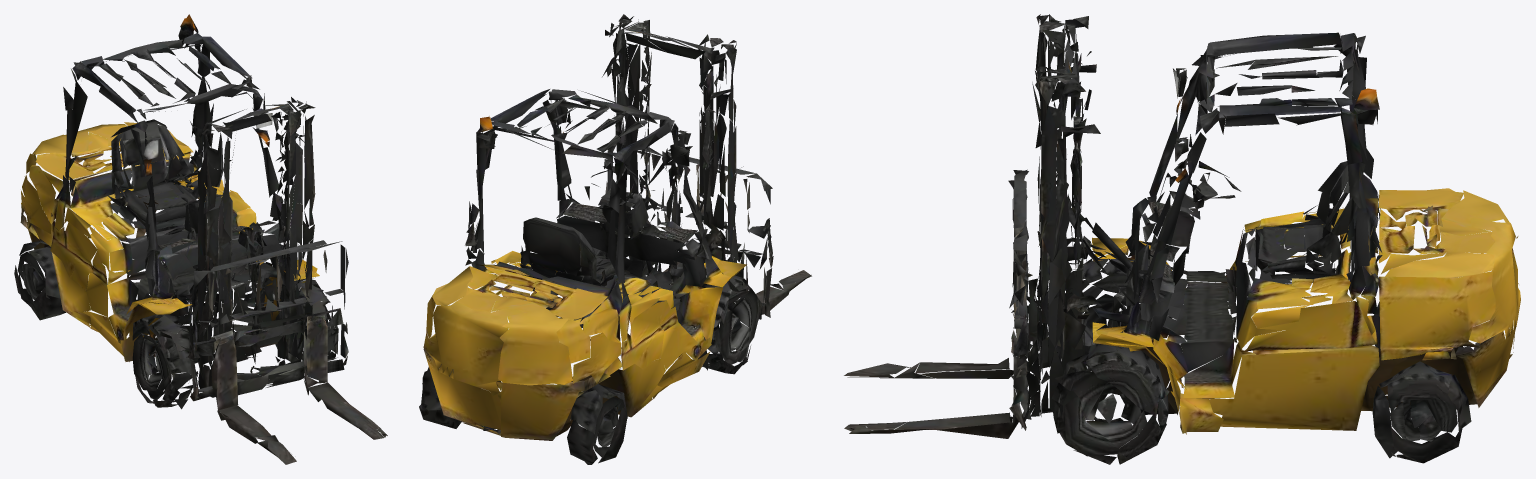
The model's file is forklift.glb.
3 renders of one model, left to right at view 1: azimuth 30°, elevation 25°; view 2: azimuth 150°, elevation 25°; view 3: azimuth 270°, elevation 25°, orthographic. The views are drawn at different scales.
Parts seen in each view (by area): view 1: tripo_node_1e8829c5-a292-4b58-8115-0cd32ac6d07f; view 2: tripo_node_1e8829c5-a292-4b58-8115-0cd32ac6d07f; view 3: tripo_node_1e8829c5-a292-4b58-8115-0cd32ac6d07f.
Boxes of the visible parts, x1=… form: tripo_node_1e8829c5-a292-4b58-8115-0cd32ac6d07f: x1=14, y1=14, x2=387, y2=464; tripo_node_1e8829c5-a292-4b58-8115-0cd32ac6d07f: x1=419, y1=14, x2=811, y2=464; tripo_node_1e8829c5-a292-4b58-8115-0cd32ac6d07f: x1=844, y1=14, x2=1520, y2=464.
Bounding box in the file's own units: 0.3791 × 0.5898 × 0.9789.
Materials: 1 (1 with a texture image).
